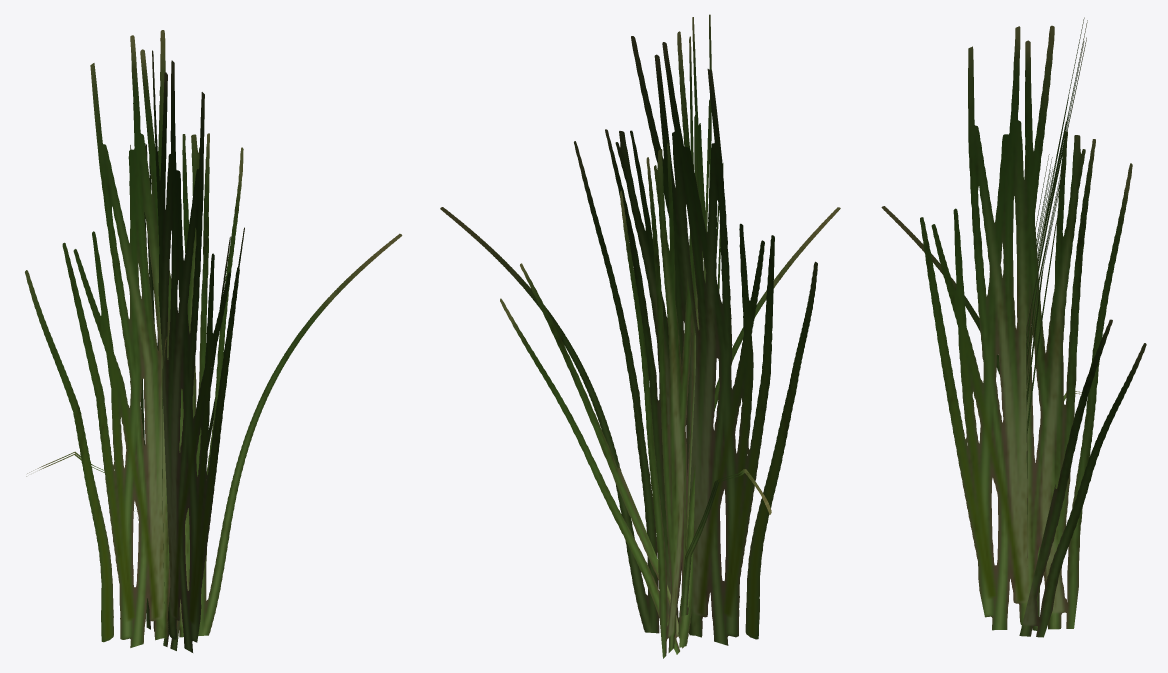
File: Cultivo 5.fbx
3 views of the same model, side by side, from view 1: azimuth 30°, elevation 25°; view 2: azimuth 150°, elevation 25°; view 3: azimuth 270°, elevation 25° (orthographic). The views are drawn at different scales.
Parts seen in each view (by area): view 1: Object_24; view 2: Object_24; view 3: Object_24.
Boxes of the visible parts, left/top/right/bottom form: Object_24: left=25, top=30, right=402, bottom=652; Object_24: left=440, top=14, right=840, bottom=658; Object_24: left=881, top=17, right=1146, bottom=637.
Bounding box in the file's own units: 22.79 × 34.85 × 14.04.
Materials: 1 (1 with a texture image).
